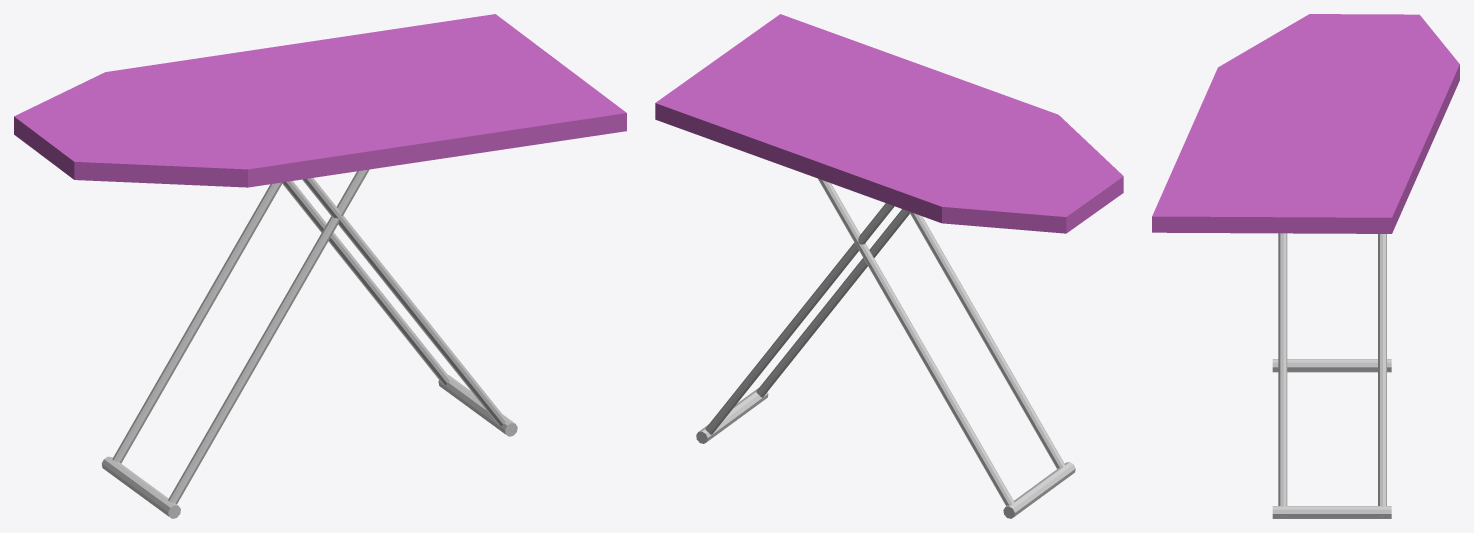
The model's file is Ironing.fbx.
The picture shows the model from 3 angles, left to right: view 1: azimuth 30°, elevation 25°; view 2: azimuth 150°, elevation 25°; view 3: azimuth 270°, elevation 25°; orthographic projection. The views are drawn at different scales.
Parts seen in each view (by area): view 1: Ironing-Board; view 2: Ironing-Board; view 3: Ironing-Board.
Part boxes in pixels (box(x1,y1,x2,y2)): Ironing-Board: box(14, 14, 626, 518); Ironing-Board: box(655, 14, 1123, 518); Ironing-Board: box(1152, 14, 1459, 518).
Size of the model in its own units: 2.25 by 1.66 by 1.44.
